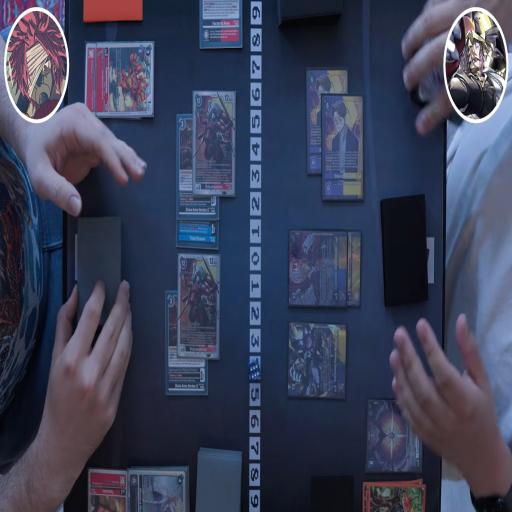card: (164, 286, 210, 400), (287, 228, 349, 309), (320, 94, 366, 202), (286, 322, 347, 400), (176, 254, 220, 362), (307, 69, 351, 176), (176, 114, 220, 220), (192, 90, 234, 197), (96, 42, 155, 117), (368, 400, 425, 476), (128, 468, 189, 512), (200, 0, 241, 51), (88, 467, 132, 512), (176, 219, 220, 249), (346, 227, 360, 307), (85, 43, 98, 112)
